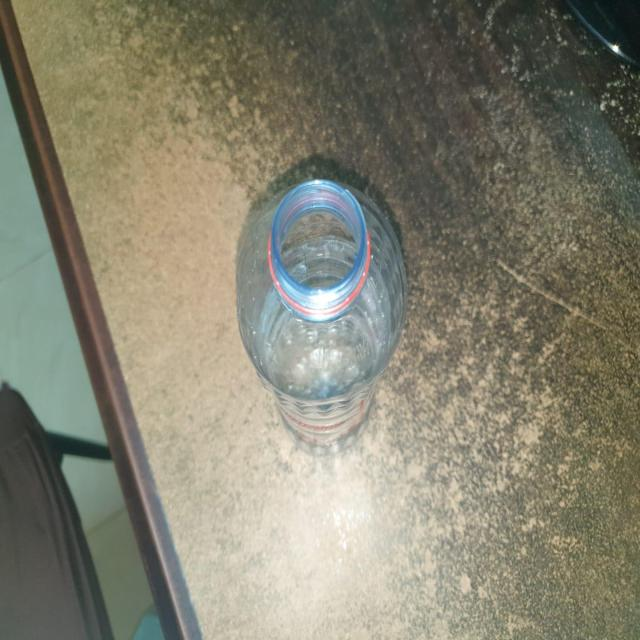bottle: (228, 169, 414, 452)
